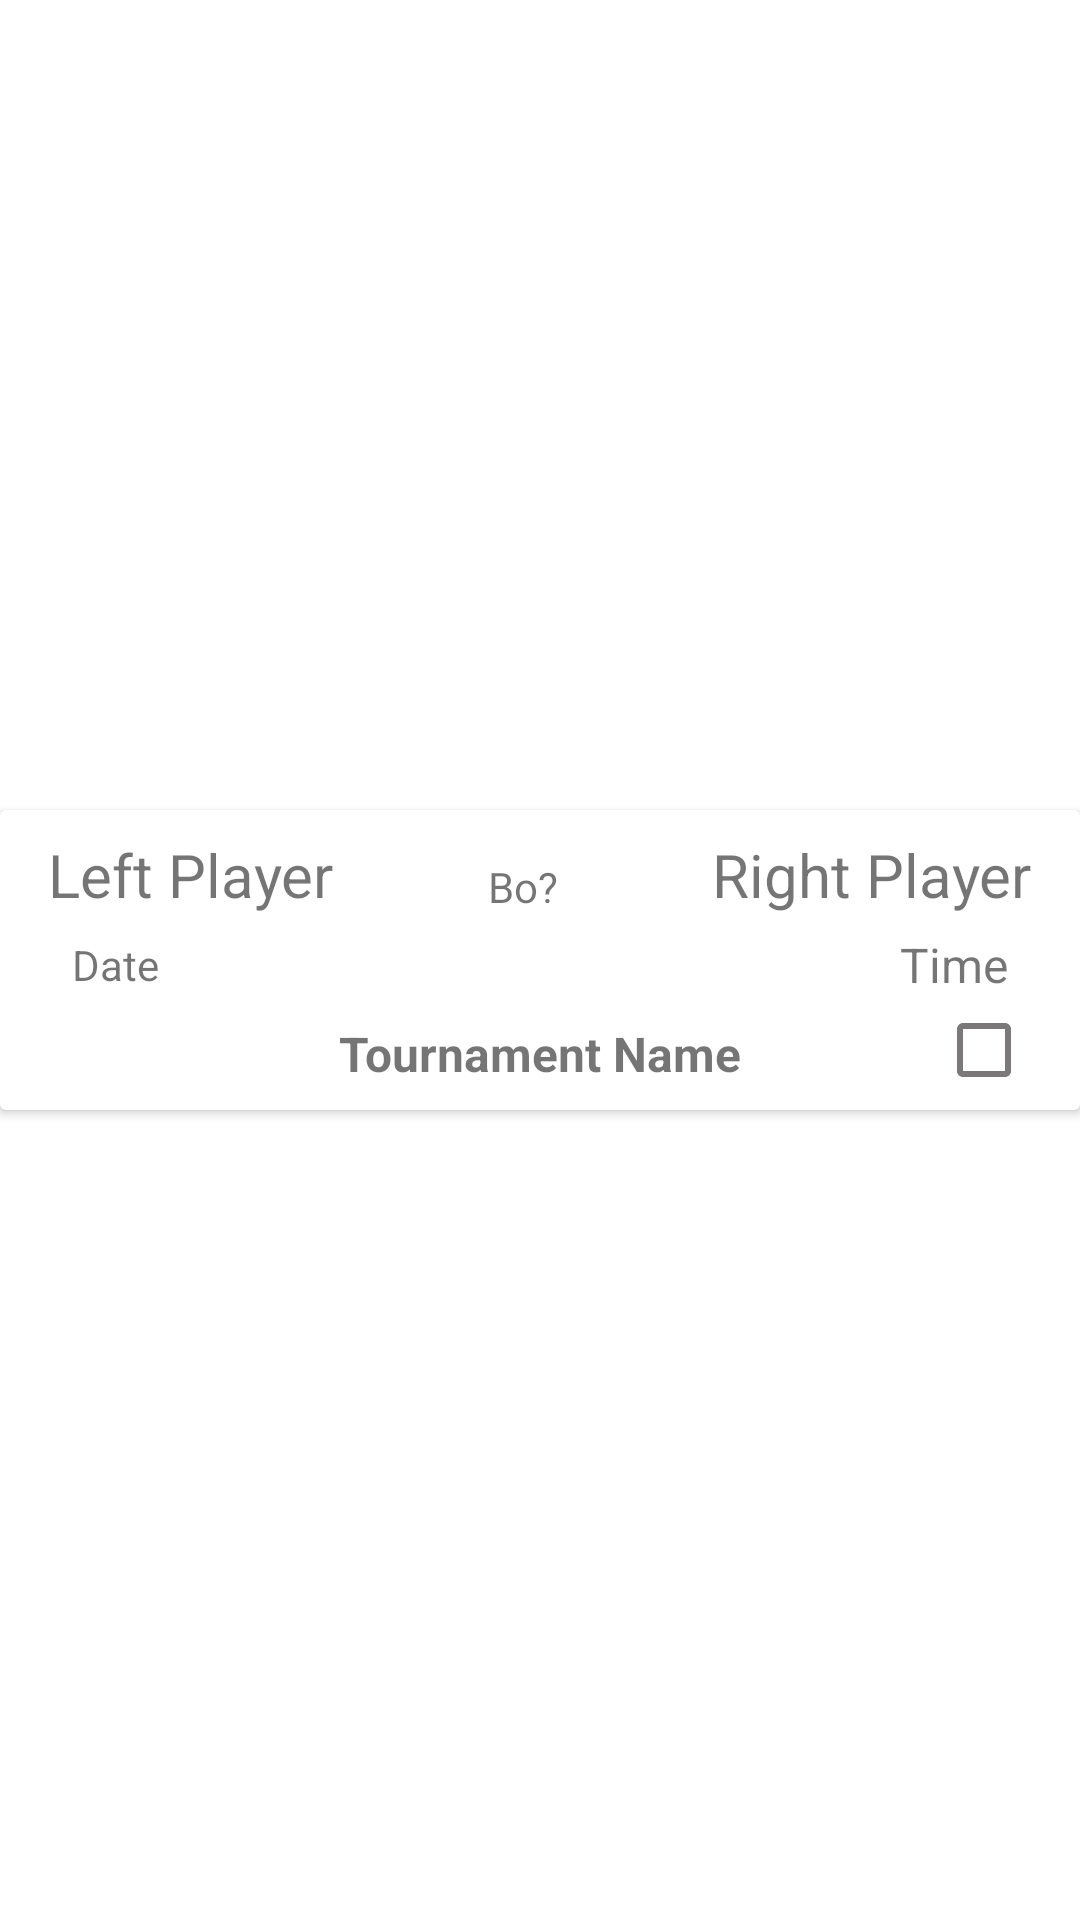

Locate icon controls on the screen. Image size 1080x1920, boxes as (x1, y1, x2, y2).
is checked false: (957, 1023, 1011, 1077)
